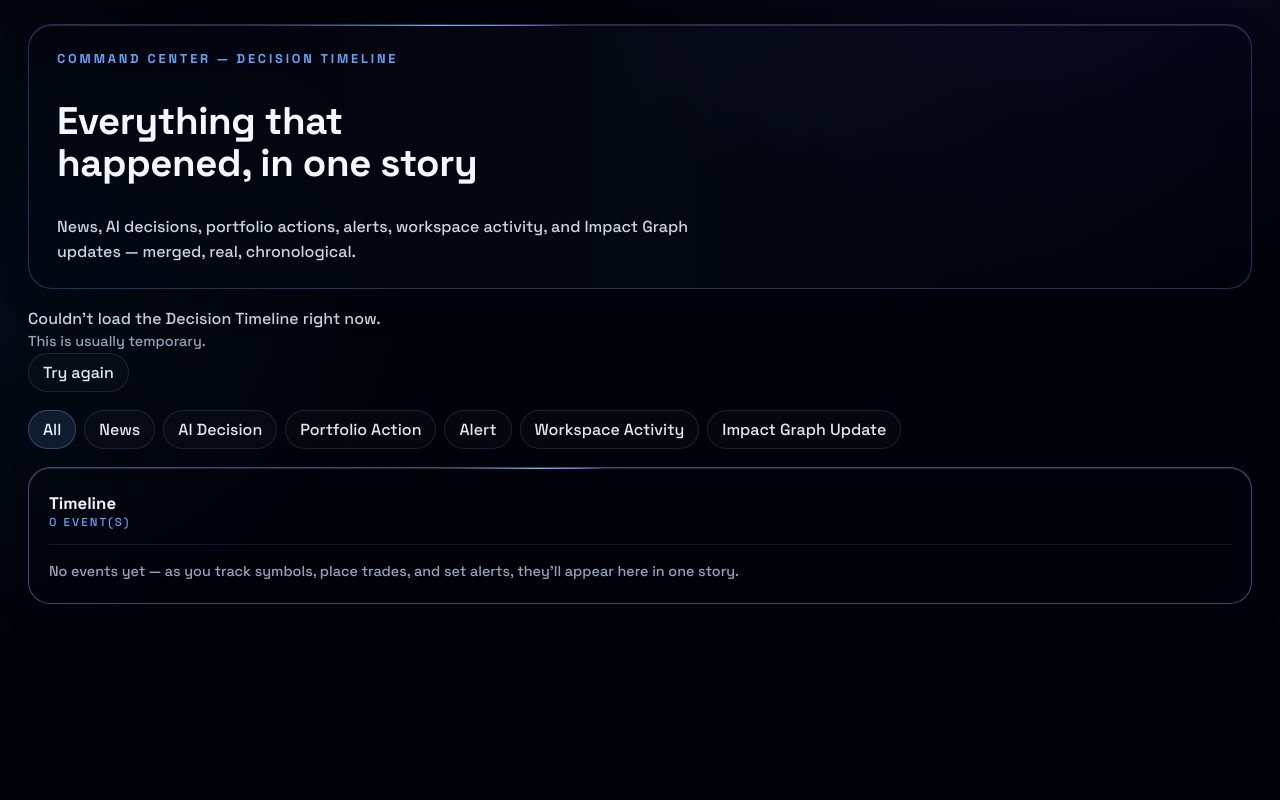
Test: DecisionTimelineScreen › shows a friendly error state with a real retry action on failure
Expected: the text "Couldn't load the Decision Timeline right now." is shown, left=28, top=308, right=381, bottom=329
Click the button "Try again".
click(78, 372)  # box left=28, top=353, right=129, bottom=392
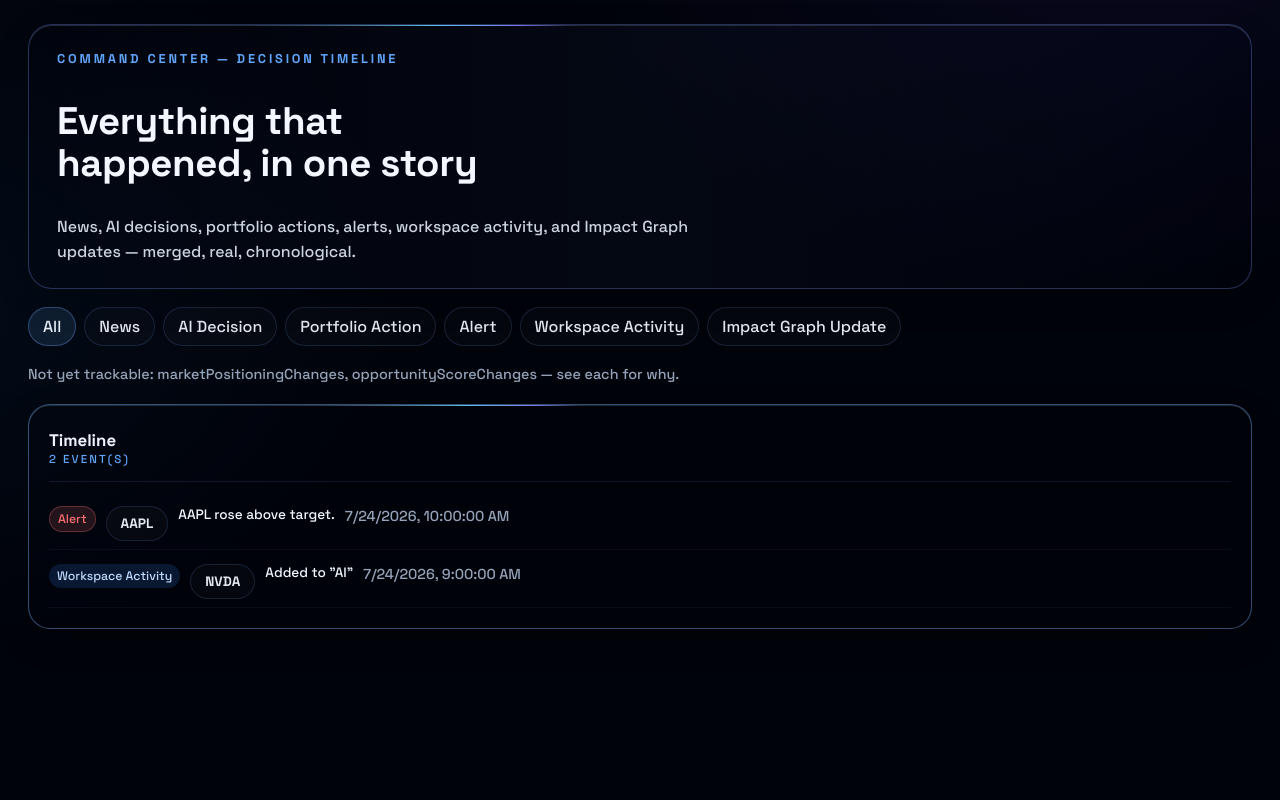
Expected: the text "AAPL rose above target." is shown, left=178, top=506, right=335, bottom=523
